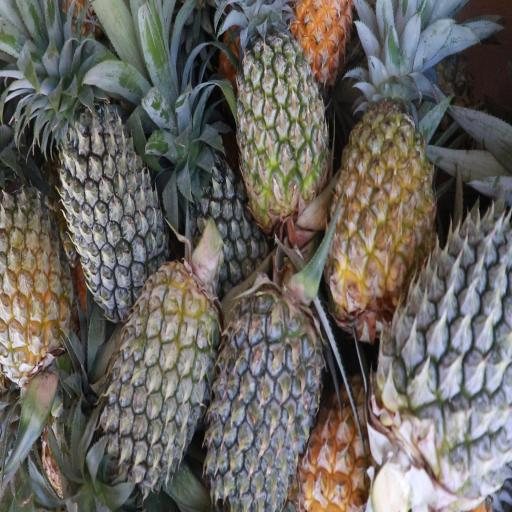------------------------------: (234, 18, 332, 225)
Pineapple - v8 v1: (330, 87, 435, 329), (0, 186, 73, 383)
